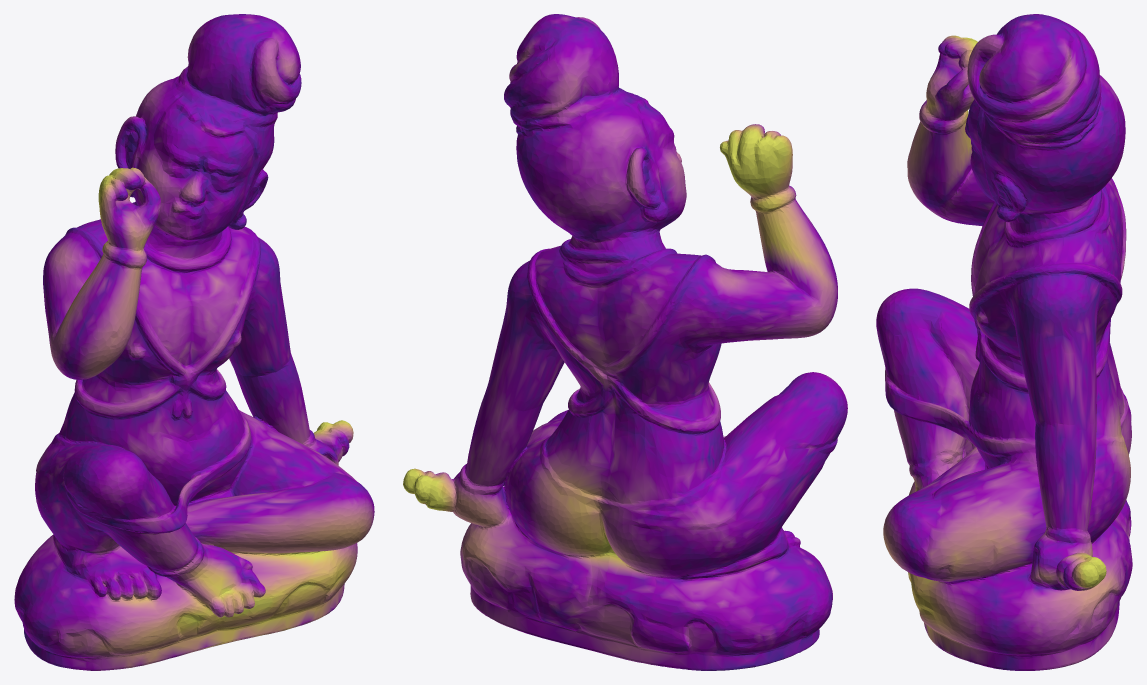
Rendered from iter_4.glb.
3 views of the same model, side by side, from view 1: azimuth 30°, elevation 25°; view 2: azimuth 150°, elevation 25°; view 3: azimuth 270°, elevation 25° (orthographic). The views are drawn at different scales.
Visible parts, largest first — view 1: textured_mesh; view 2: textured_mesh; view 3: textured_mesh.
Part boxes in pixels (x1=…): textured_mesh: x1=14, y1=14, x2=374, y2=670; textured_mesh: x1=403, y1=14, x2=847, y2=670; textured_mesh: x1=876, y1=14, x2=1132, y2=670.
Bounding box in the file's own units: 1.34 × 1.99 × 0.7635.
